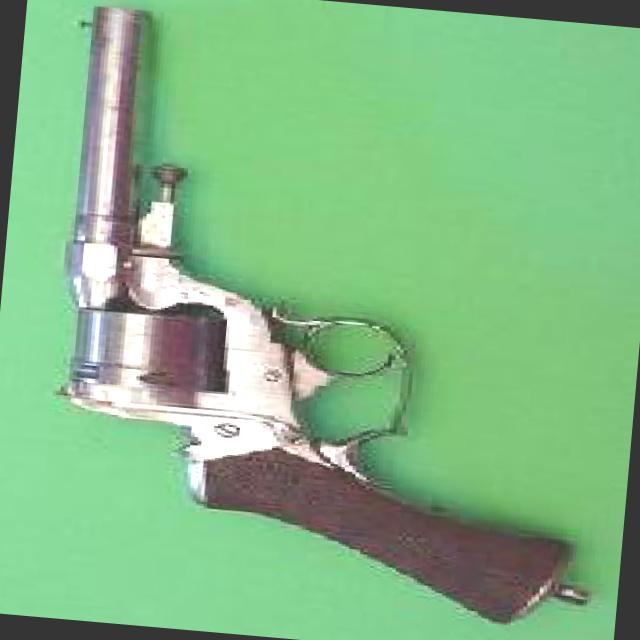handgun: (20, 5, 616, 632)
